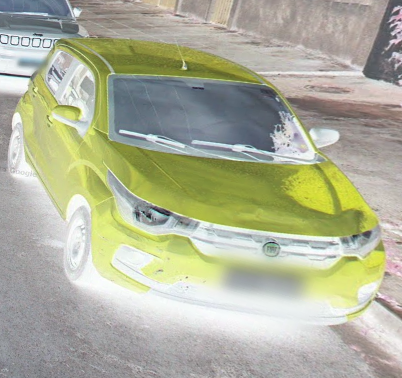car: (13, 37, 388, 334)
